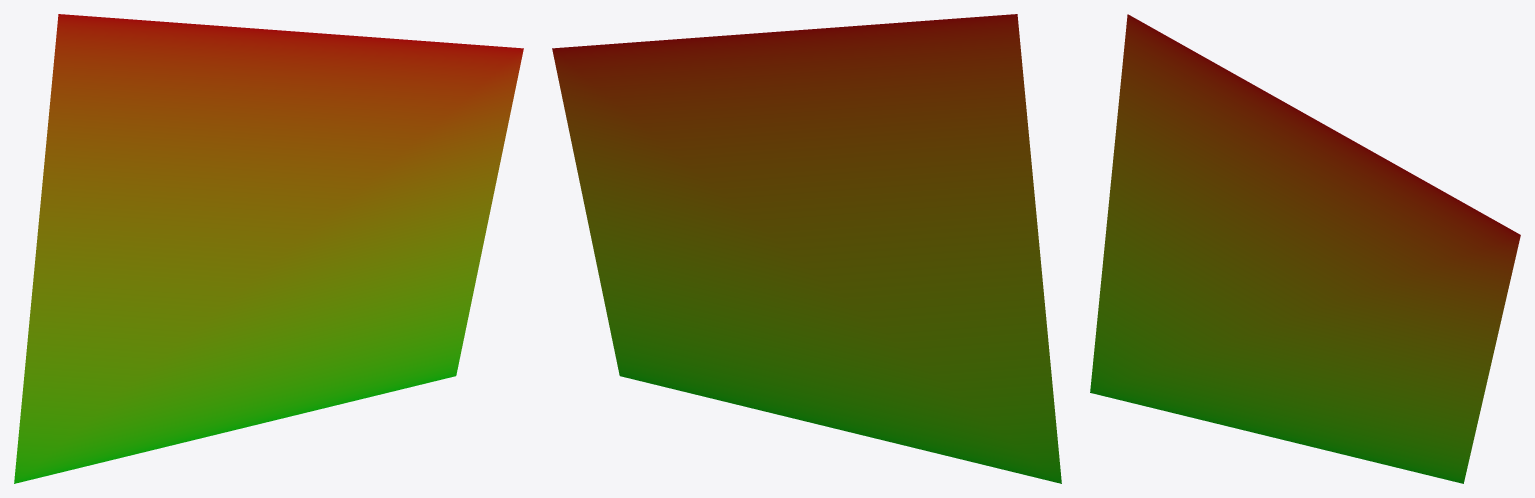
File: Cast - Iron Plant_LOD3_Var2_shdmr.fbx
The picture shows the model from 3 angles, left to right: view 1: azimuth 30°, elevation 25°; view 2: azimuth 150°, elevation 25°; view 3: azimuth 330°, elevation 25°; orthographic projection. The views are drawn at different scales.
Visible parts, largest first — view 1: _f459_Var2_LOD3; view 2: _f459_Var2_LOD3; view 3: _f459_Var2_LOD3.
Part boxes in pixels (box(x1,y1,x2,y2)): _f459_Var2_LOD3: box(14, 14, 523, 483); _f459_Var2_LOD3: box(552, 14, 1061, 483); _f459_Var2_LOD3: box(1090, 14, 1520, 483).
Bounding box in the file's own units: 67.59 × 58.17 × 1.35e-05.
